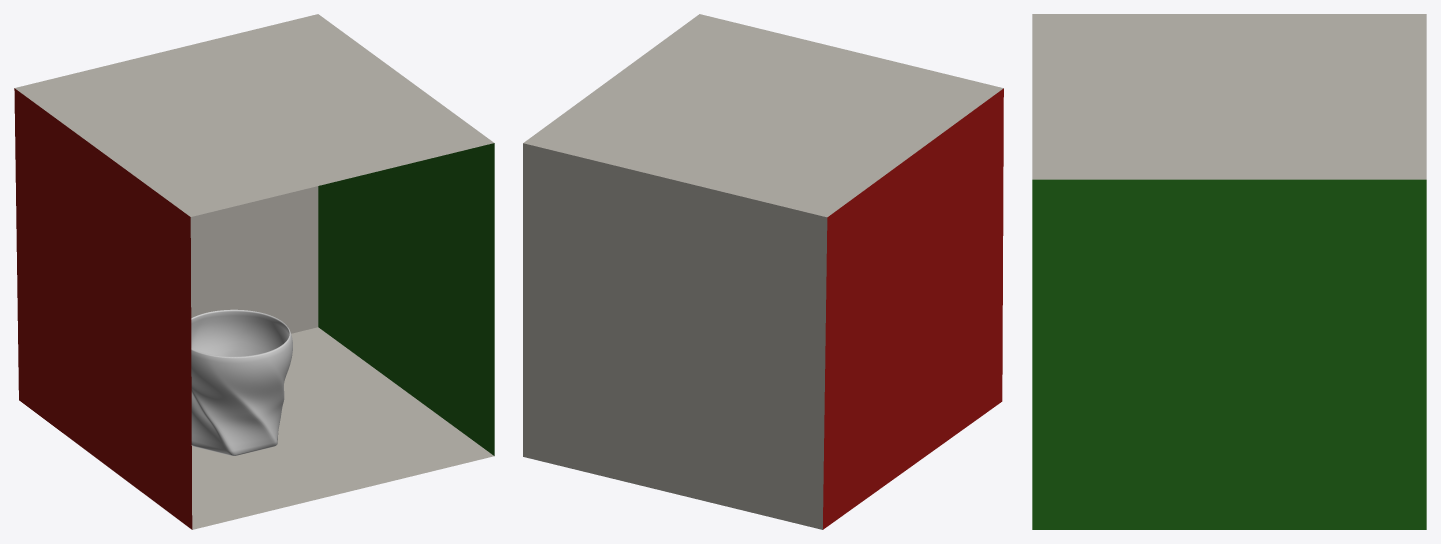
Rendered from glass-cornellbox.obj.
3 renders of one model, left to right at view 1: azimuth 30°, elevation 25°; view 2: azimuth 150°, elevation 25°; view 3: azimuth 270°, elevation 25°, orthographic. The views are drawn at different scales.
Visible parts, largest first — view 1: left_wall, ceiling, right_wall, ground, back_wall, Glass; view 2: back_wall, left_wall, ceiling; view 3: right_wall, ceiling.
Boxes of the visible parts, box(x1,y1,x2,y2) form: left_wall: box(14, 88, 192, 529); ceiling: box(15, 14, 493, 216); right_wall: box(318, 143, 494, 455); ground: box(192, 327, 493, 529); back_wall: box(190, 186, 318, 333); Glass: box(191, 309, 292, 455); back_wall: box(523, 143, 827, 529); left_wall: box(823, 88, 1003, 529); ceiling: box(523, 14, 1003, 217); right_wall: box(1032, 179, 1426, 529); ceiling: box(1032, 14, 1426, 179).
Size of the model in its own units: 2.02 by 1.99 by 2.03.
